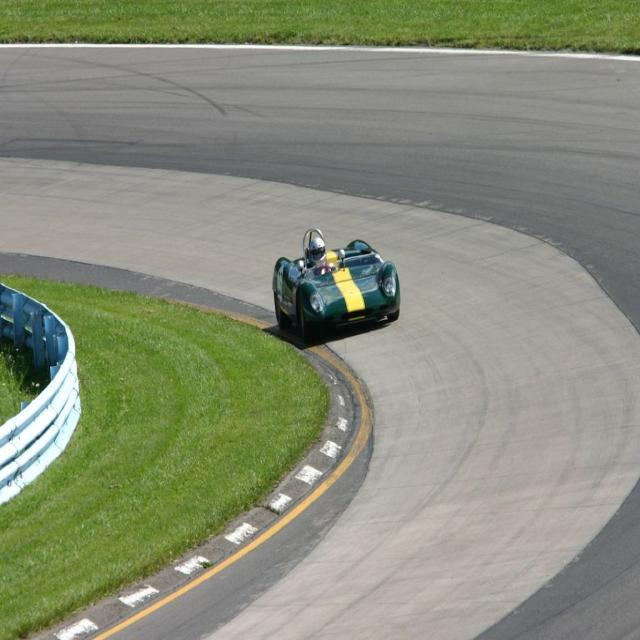car: (265, 224, 397, 339)
